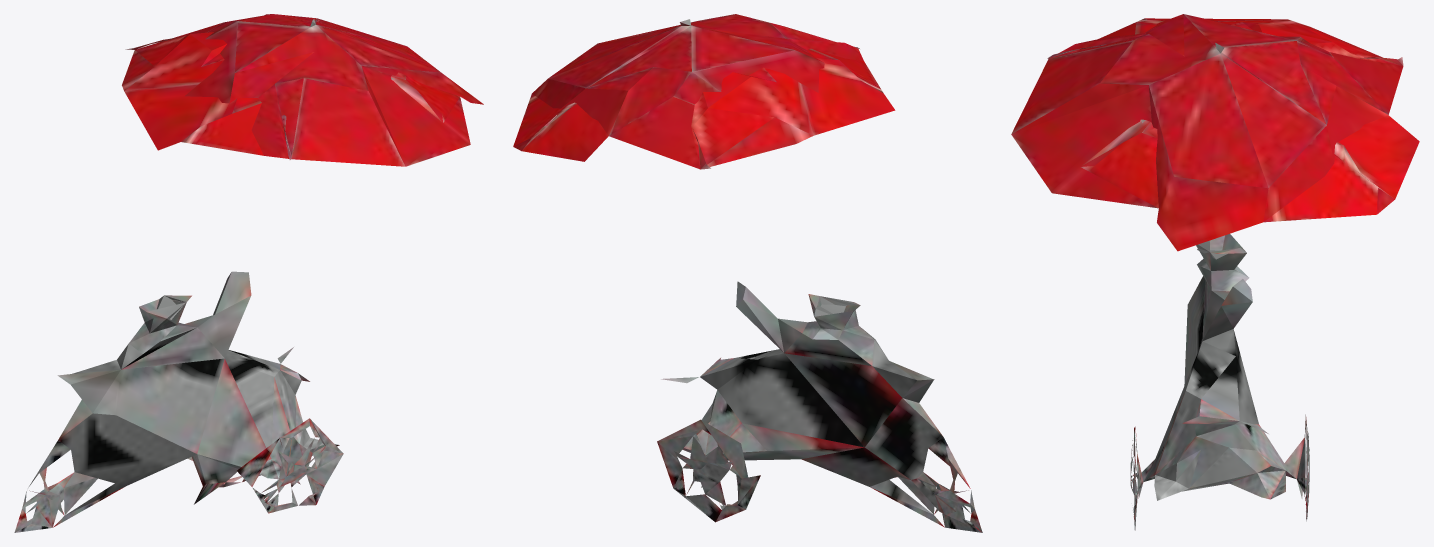
File: food_cart_low.glb
The picture shows the model from 3 angles, left to right: view 1: azimuth 30°, elevation 25°; view 2: azimuth 150°, elevation 25°; view 3: azimuth 270°, elevation 25°; orthographic projection. The views are drawn at different scales.
Parts seen in each view (by area): view 1: output_unwrapped; view 2: output_unwrapped; view 3: output_unwrapped.
Part boxes in pixels (x1,y1,x2,y2): output_unwrapped: [14, 14, 483, 532]; output_unwrapped: [513, 14, 982, 532]; output_unwrapped: [1011, 14, 1419, 530].
Size of the model in its own units: 2.47 by 2.4 by 1.72.
Materials: 1 (1 with a texture image).
